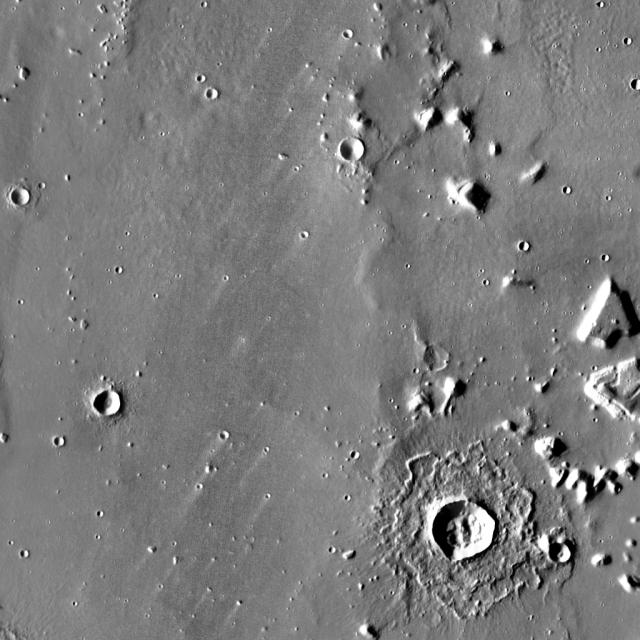crater: (435, 501, 496, 559), (95, 390, 123, 416), (339, 138, 365, 162), (428, 346, 453, 370), (552, 541, 574, 561), (12, 188, 29, 204), (206, 89, 217, 99), (221, 431, 231, 441), (343, 29, 353, 38), (632, 79, 640, 90), (520, 242, 530, 250), (624, 37, 632, 45), (54, 438, 62, 446), (20, 550, 28, 558), (352, 451, 360, 459), (303, 231, 311, 239), (563, 186, 570, 194), (115, 268, 122, 276), (38, 181, 46, 188), (197, 76, 205, 82), (344, 496, 351, 502), (329, 548, 336, 554), (96, 511, 104, 516)
